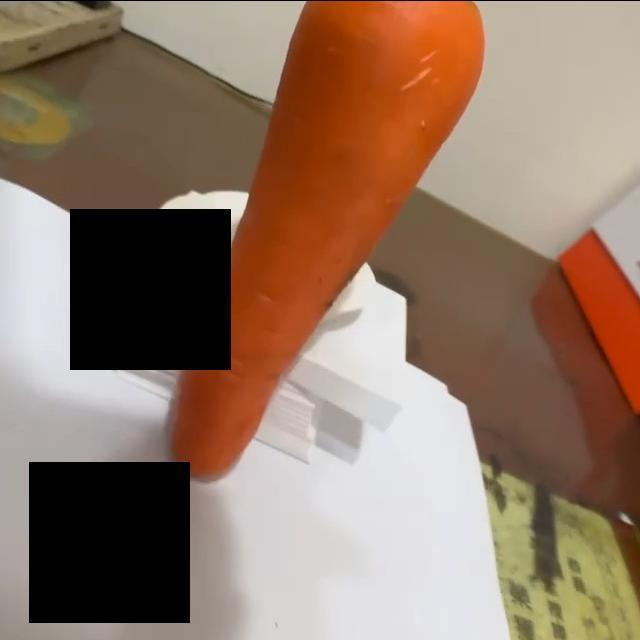carrot: (165, 1, 490, 482)
